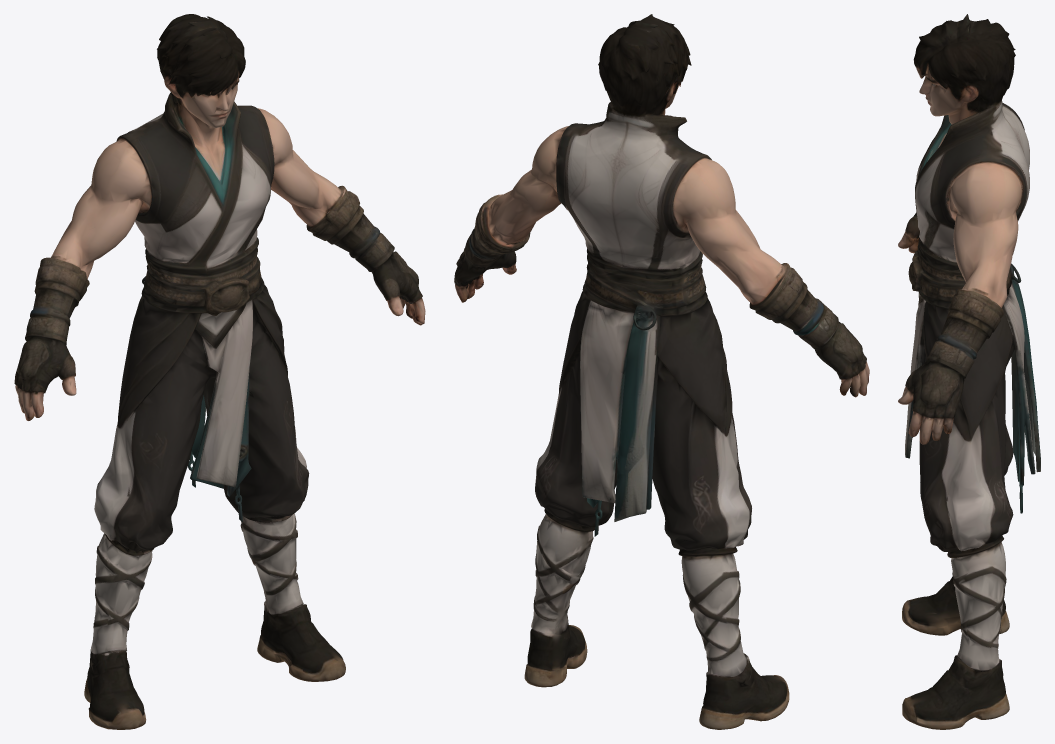
The model's file is striker.glb.
3 renders of one model, left to right at view 1: azimuth 30°, elevation 25°; view 2: azimuth 150°, elevation 25°; view 3: azimuth 270°, elevation 25°, orthographic. The views are drawn at different scales.
Parts seen in each view (by area): view 1: material; view 2: material; view 3: material.
Boxes of the visible parts, x1=… form: material: x1=14, y1=14, x2=425, y2=729; material: x1=454, y1=14, x2=869, y2=729; material: x1=898, y1=14, x2=1040, y2=729.
Size of the model in its own units: 1.1 by 1.76 by 0.3488.
1 material, 1 textured.
